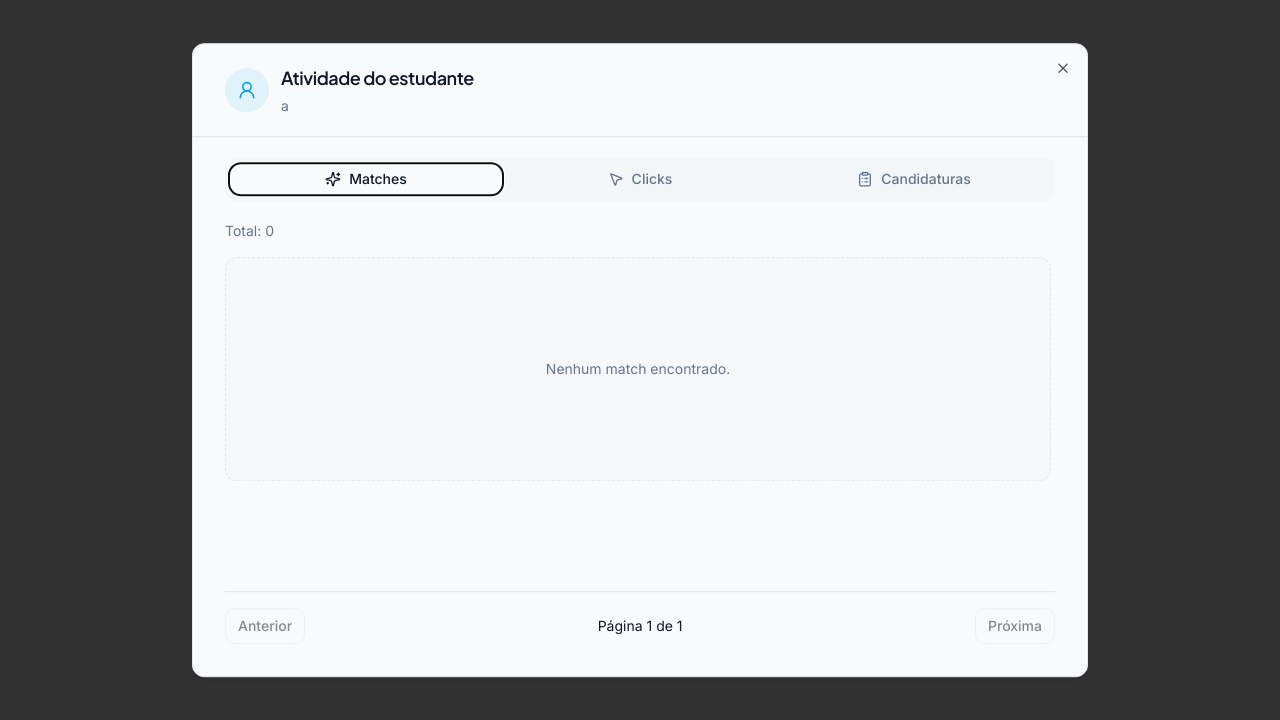
Test case: does not load when closed; lazily loads the selected collection with independent empty states
Expected: the text "Nenhum match encontrado." is shown, [225, 257, 1051, 481]
Press the mouse on the tab "Clicks": [640, 179] box [503, 163, 777, 195]
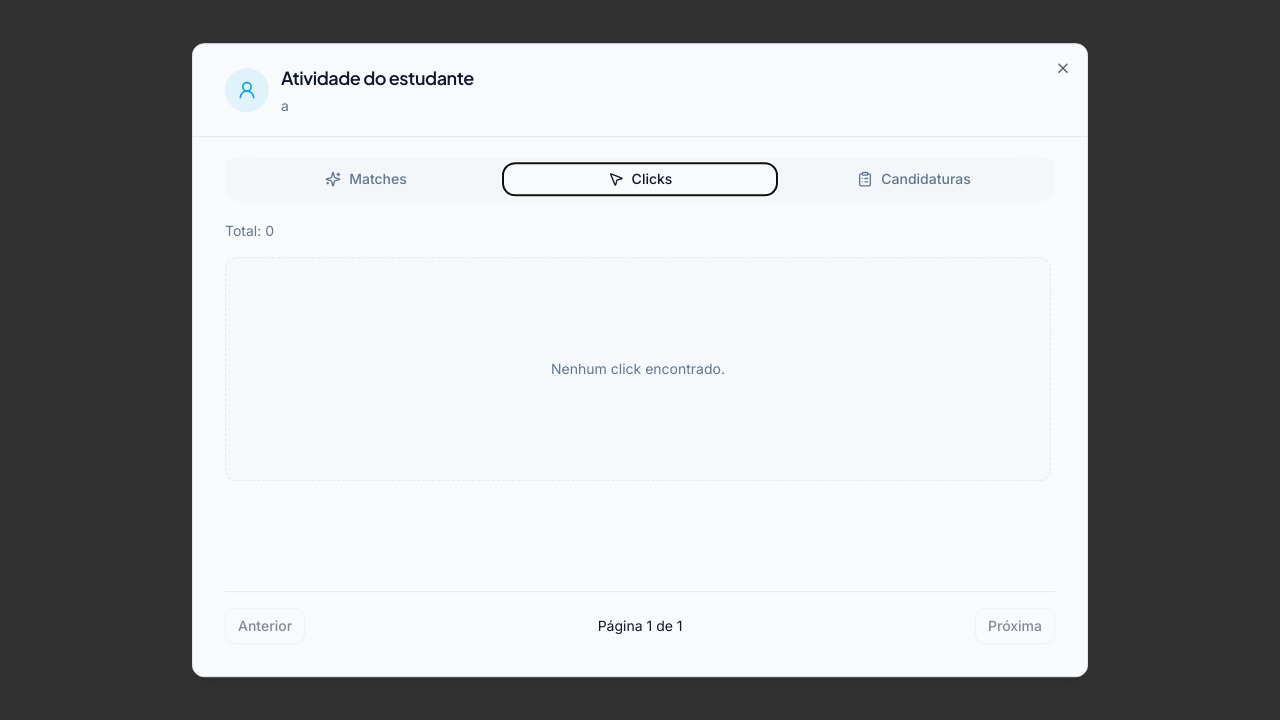
Expected: the text "Nenhum click encontrado." is shown, [225, 257, 1051, 481]
Press the mouse on the tab "Candidaturas": [914, 179] box [777, 163, 1051, 195]
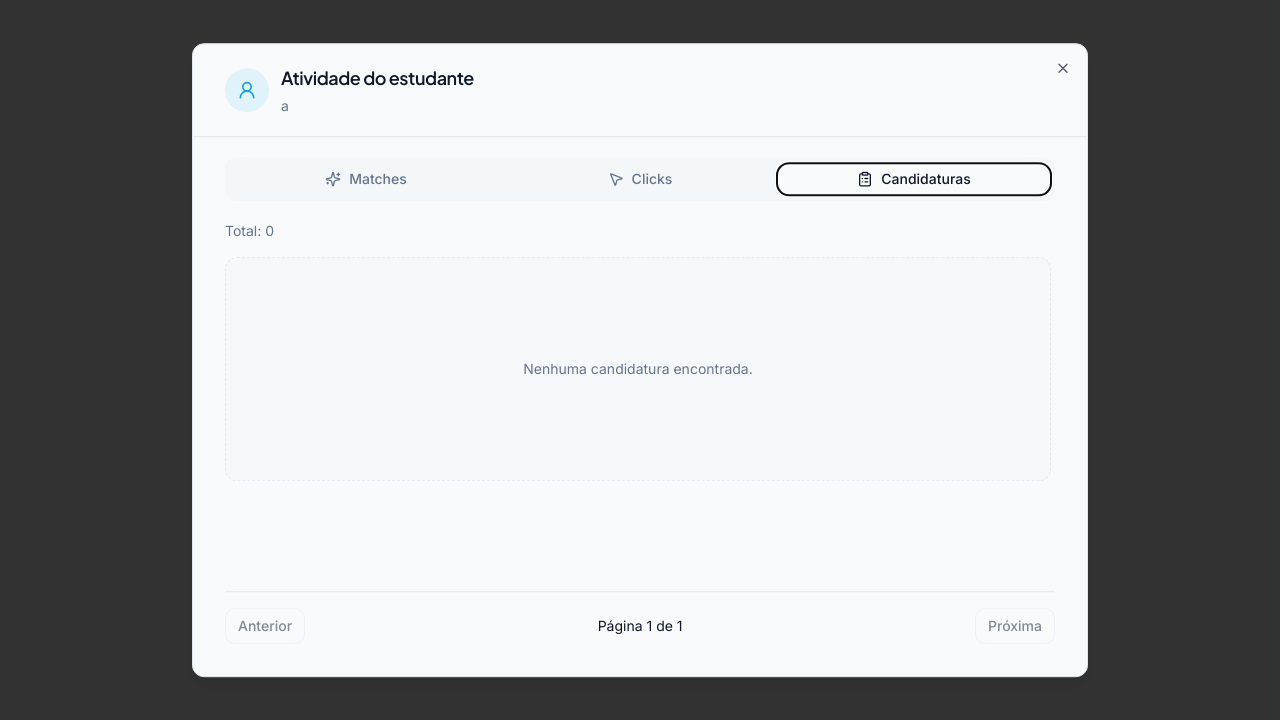
Expected: the text "Nenhuma candidatura encontrada." is shown, [225, 257, 1051, 481]
